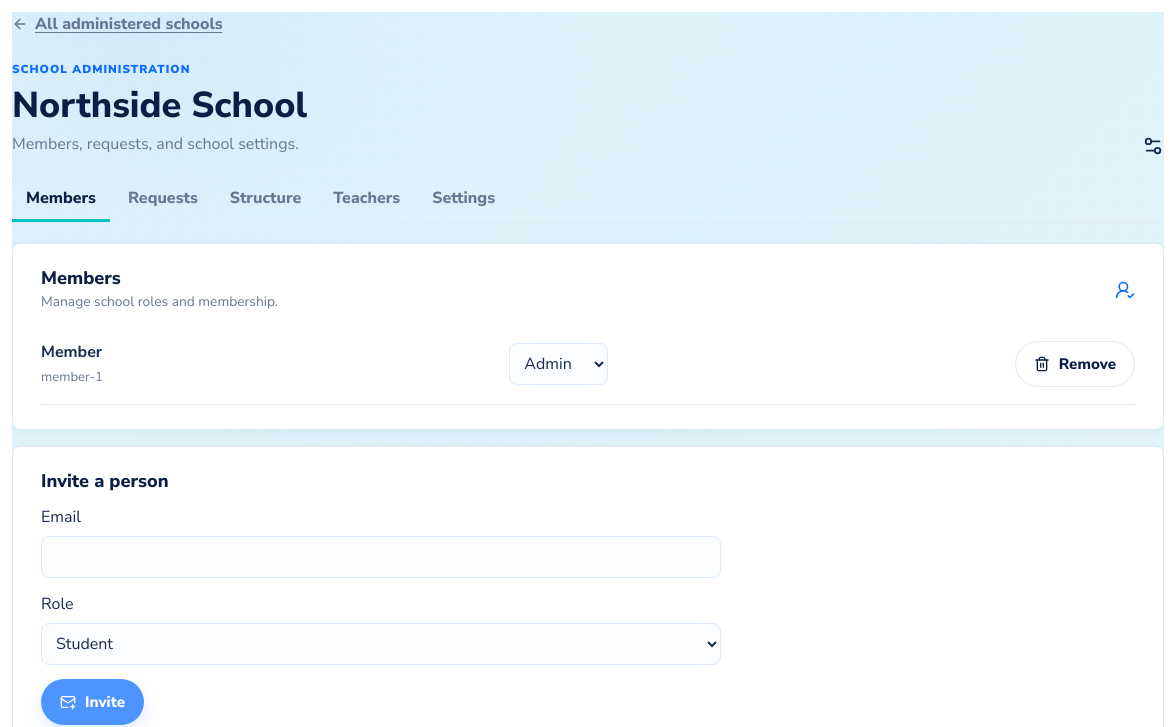
Test: AdministrationPage › explains the final-admin role change protection in friendly words
Select "Teacher" in the dropdown named "Role for member-1" at (559, 364), box [509,343,608,385]
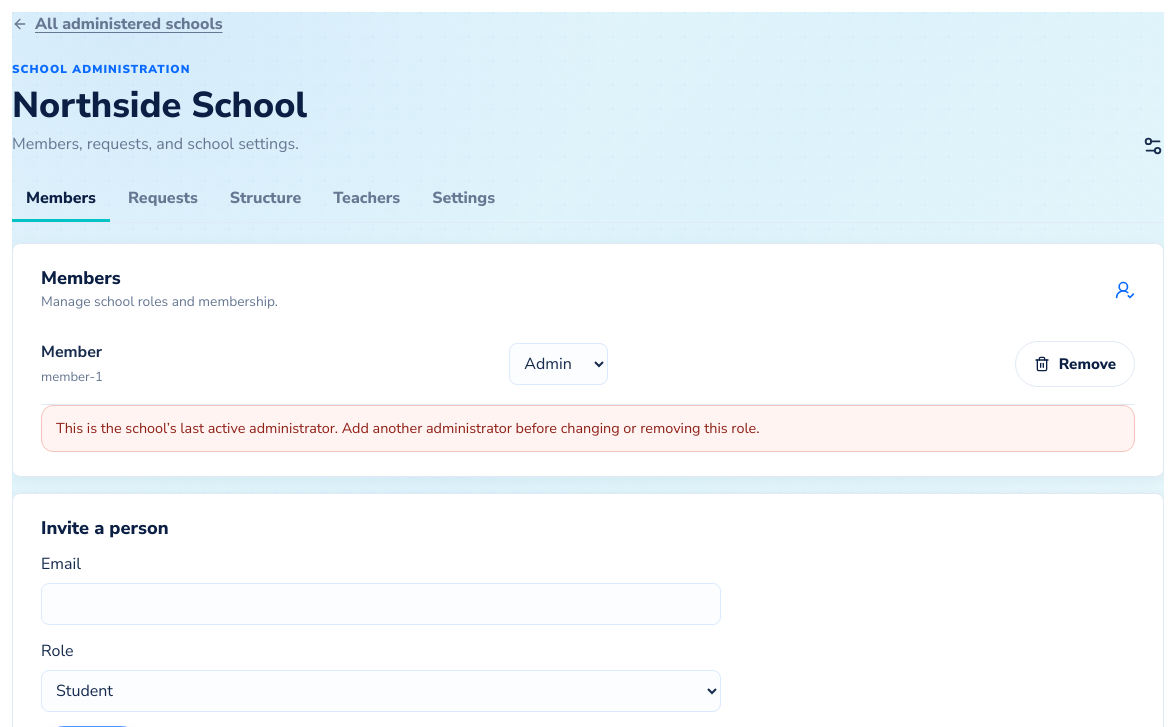
Now the message shows "last active administrator", box [56,418,760,438]
Now the message shows "Add another administrator", box [56,418,760,438]
